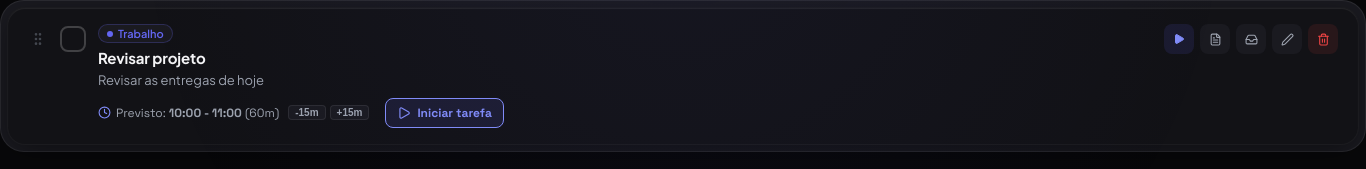
Progresso da tarefa no card › inicia a tarefa, exibe seu andamento e mantém conclusão e Pomodoro independentes
This screenshot has width=1366, height=169.
Step 1. Click the button "Iniciar tarefa" → [445, 113], box [385,98,504,128]
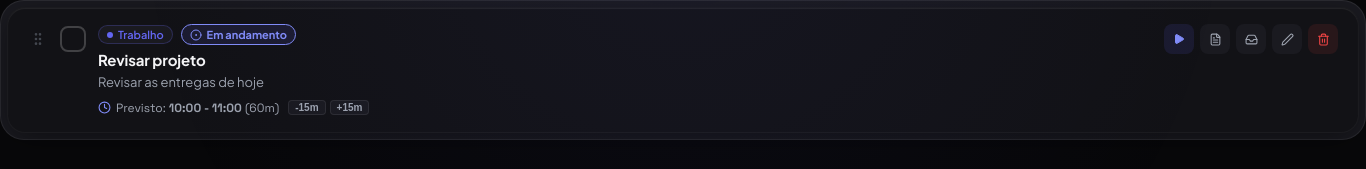
Expected: the button named "Iniciar Pomodoro nesta tarefa" is shown, [1164,24,1194,54]
Expected: the text "Em andamento" is shown, [181,24,296,45]
Expected: the button "Iniciar tarefa" is gone
